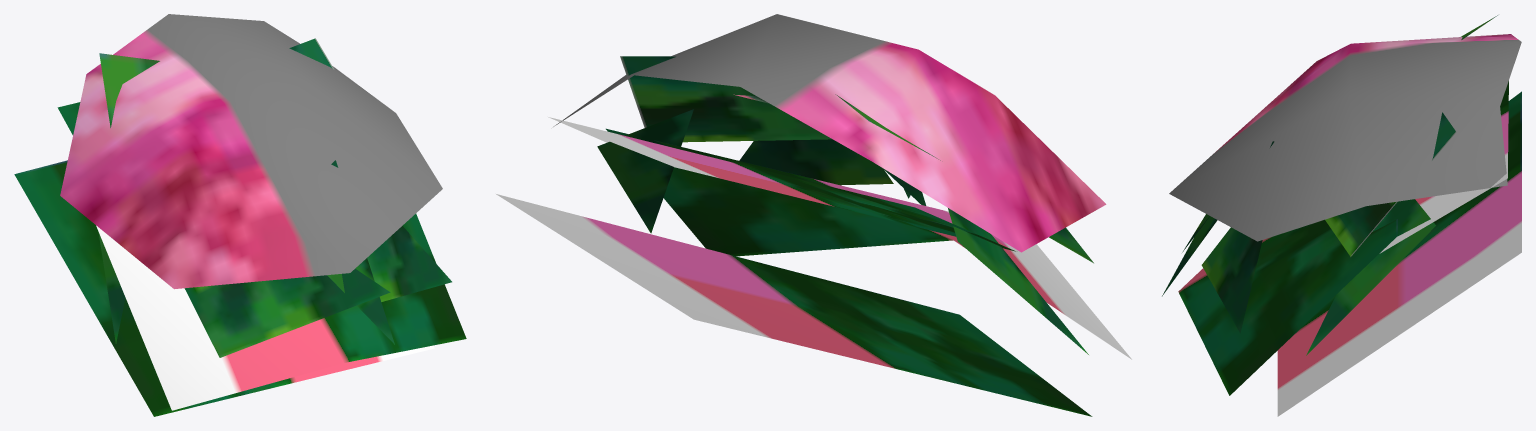
File: fg_bushA_2_s.dae
3 views of the same model, side by side, from view 1: azimuth 30°, elevation 25°; view 2: azimuth 150°, elevation 25°; view 3: azimuth 270°, elevation 25° (orthographic). The views are drawn at different scales.
Visible parts, largest first — view 1: fg_bushA_2_s; view 2: fg_bushA_2_s; view 3: fg_bushA_2_s.
Boxes of the visible parts, x1=… form: fg_bushA_2_s: x1=14, y1=14, x2=466, y2=416; fg_bushA_2_s: x1=496, y1=14, x2=1131, y2=416; fg_bushA_2_s: x1=1162, y1=15, x2=1521, y2=416.
Size of the model in its own units: 42.31 by 35.32 by 38.65.
1 material, 1 textured.
